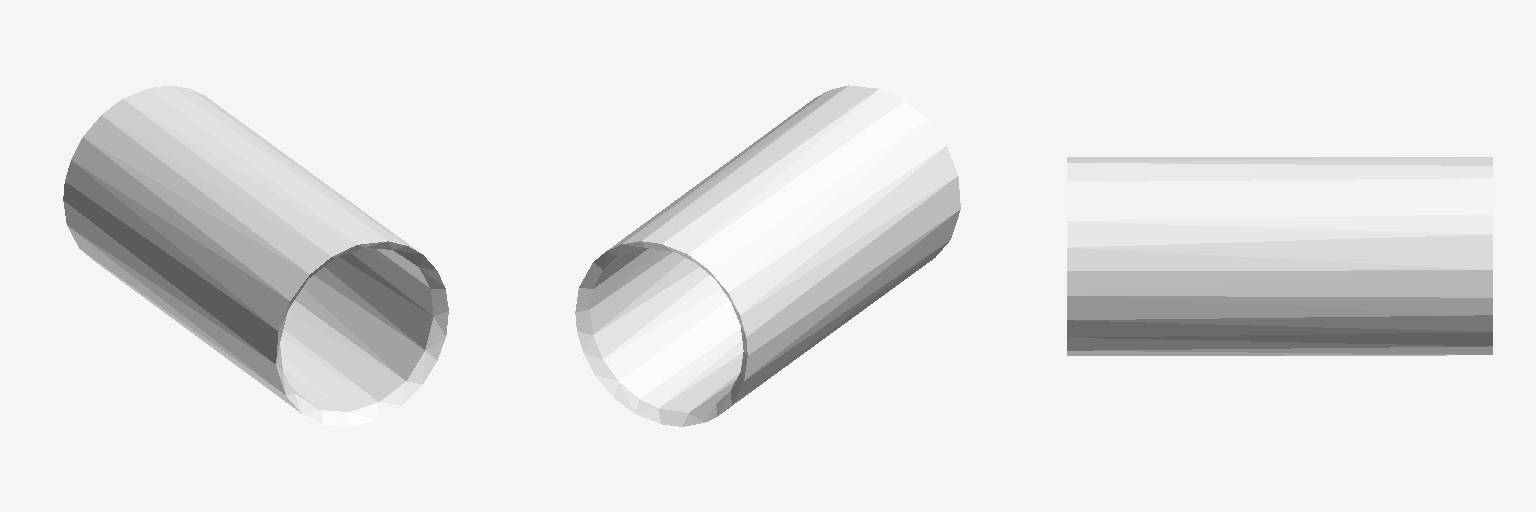
The model's file is Buchse.obj.
The picture shows the model from 3 angles: view 1: azimuth 30°, elevation 25°; view 2: azimuth 150°, elevation 25°; view 3: azimuth 270°, elevation 25°; orthographic projection.
Parts seen in each view (by area): view 1: Pneumatikspanner.026_Opaque(210,210,255); view 2: Pneumatikspanner.026_Opaque(210,210,255); view 3: Pneumatikspanner.026_Opaque(210,210,255).
Boxes of the visible parts, x1,y1,x2,y2 form: Pneumatikspanner.026_Opaque(210,210,255): [63, 85, 448, 426]; Pneumatikspanner.026_Opaque(210,210,255): [575, 85, 960, 426]; Pneumatikspanner.026_Opaque(210,210,255): [1067, 157, 1492, 355].
Size of the model in its own units: 0.0451 by 0.045 by 0.0961.